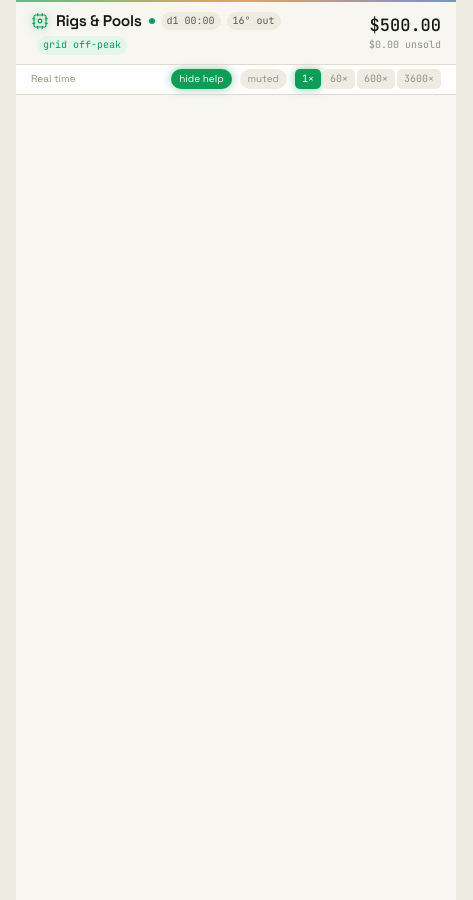
Test: TopBar › the speed buttons switch the game speed
Click the button with class "speedbtn" showing "60×". click: (339,79)
box: [323,69,355,90]
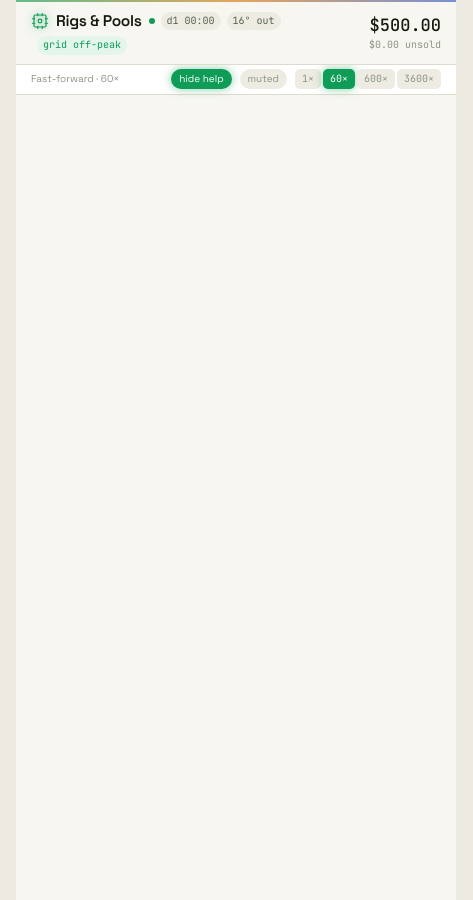
Now the text "Fast-forward" is shown, box [31,72,120,85]
